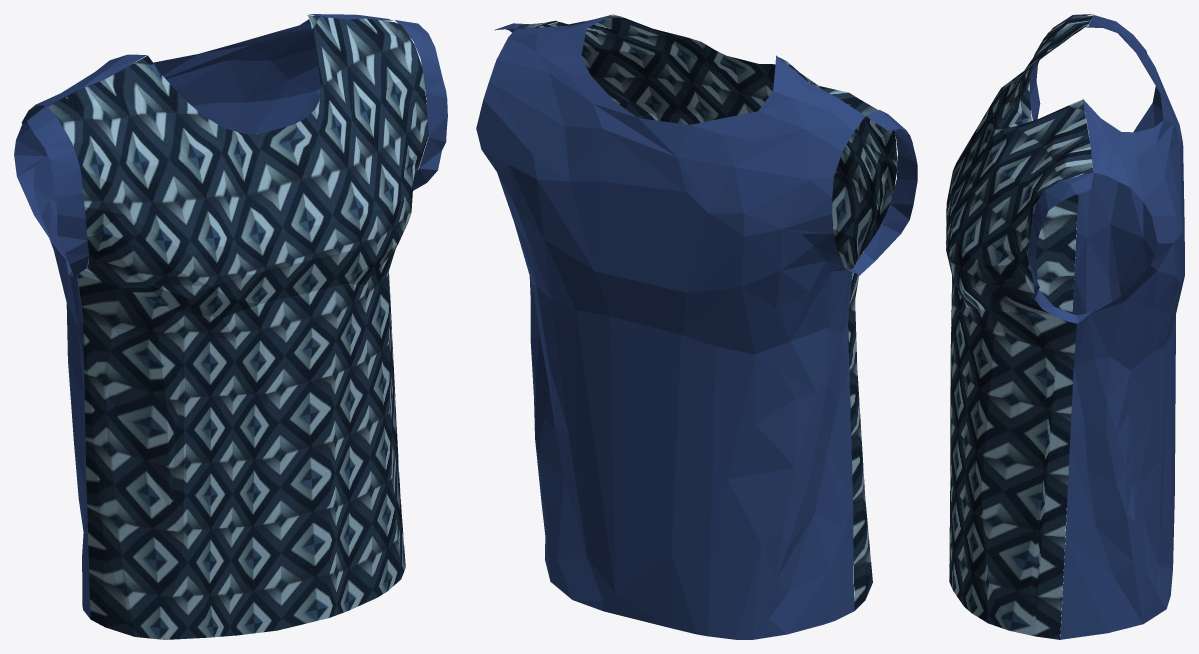
3 renders of one model, left to right at view 1: azimuth 30°, elevation 25°; view 2: azimuth 150°, elevation 25°; view 3: azimuth 270°, elevation 25°, orthographic. The views are drawn at different scales.
Visible parts, largest first — view 1: T_shirt.005; view 2: T_shirt.005; view 3: T_shirt.005.
Boxes of the visible parts, x1,y1,x2,y2 form: T_shirt.005: (14,14,447,639); T_shirt.005: (476,14,917,639); T_shirt.005: (946,14,1184,639).
Size of the model in its own units: 0.2935 by 0.3892 by 0.1639.
Materials: 2 (1 with a texture image).
